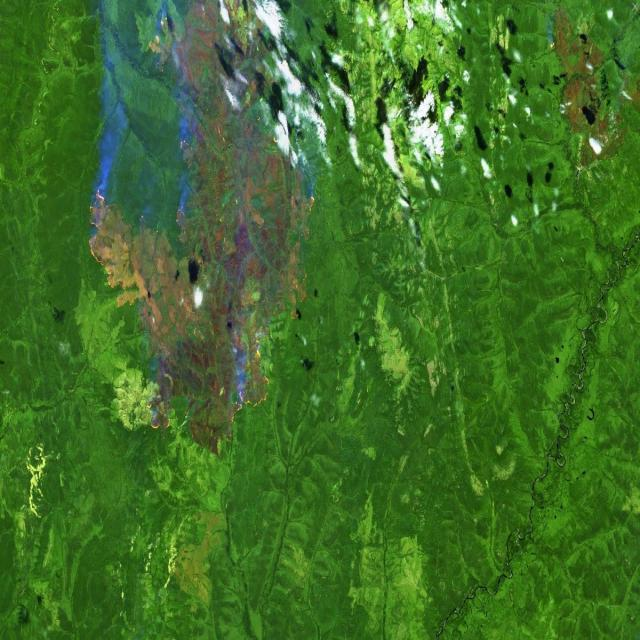fire: (79, 133, 325, 472), (140, 28, 172, 66), (543, 34, 564, 64)
